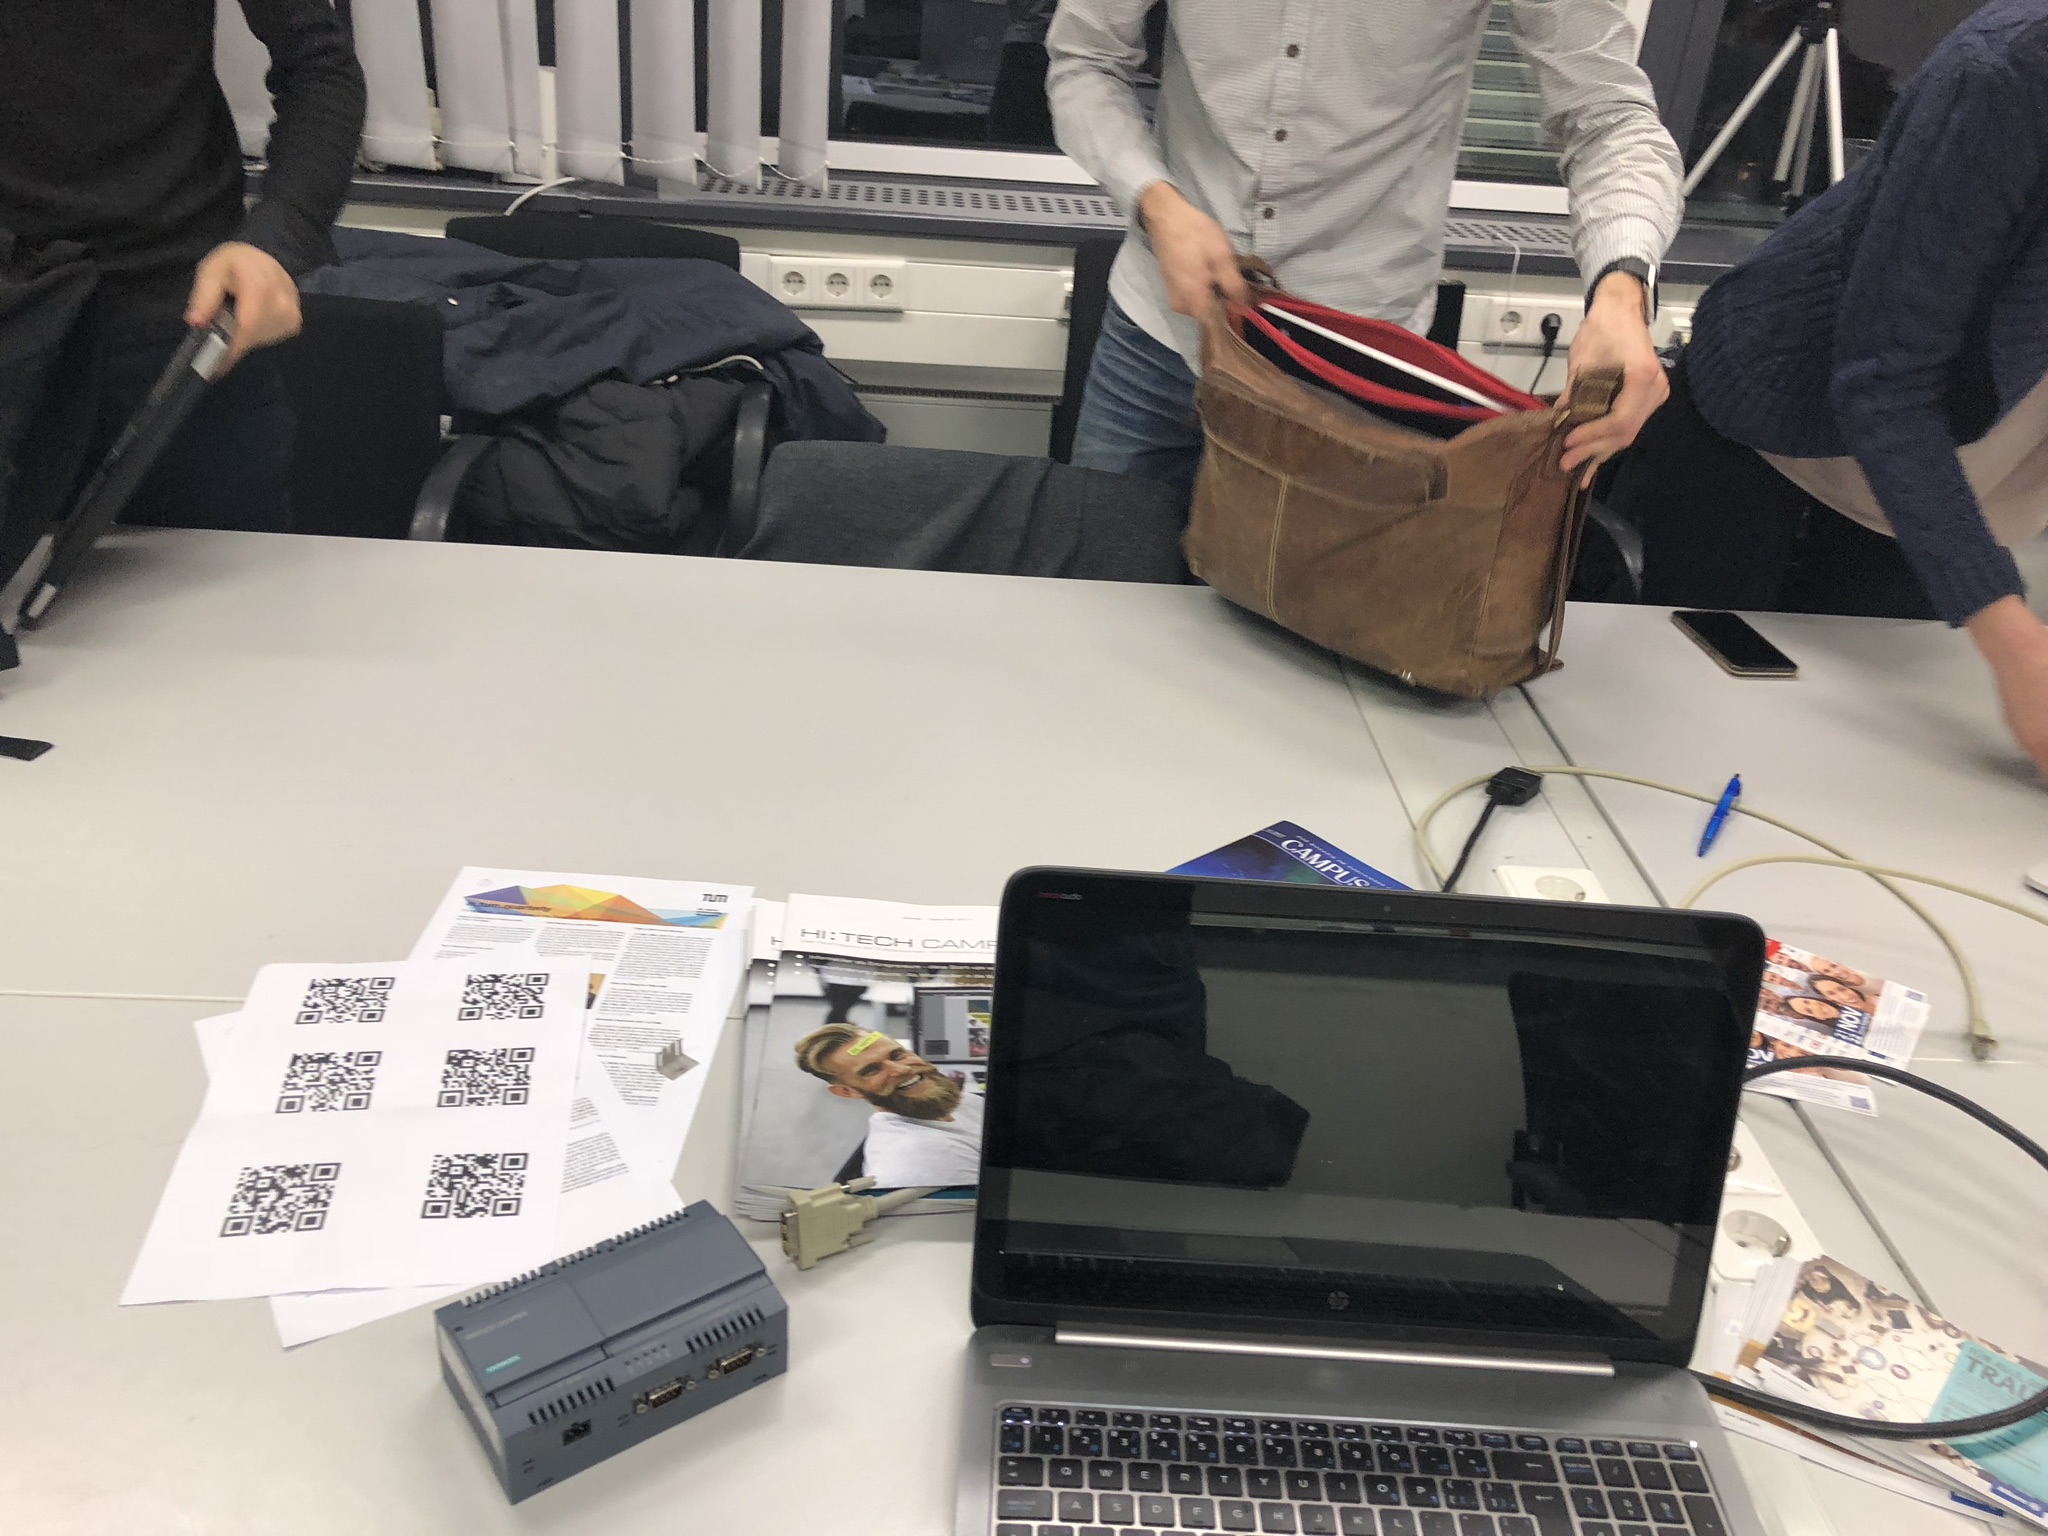device: (434, 1199, 789, 1505)
